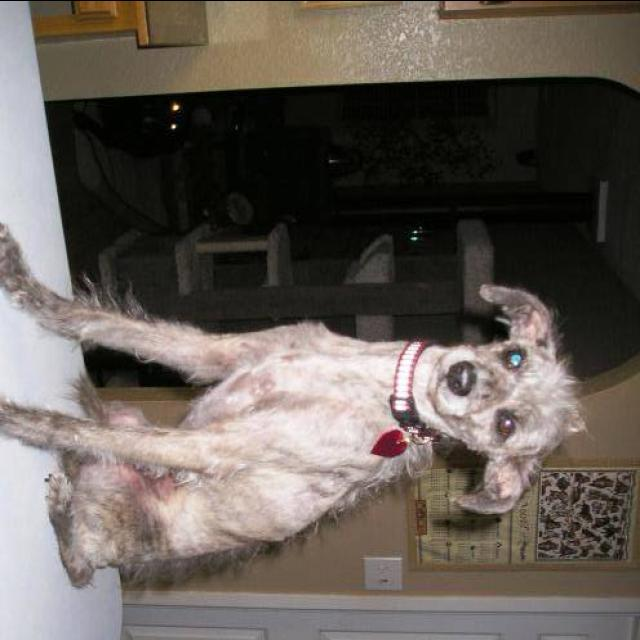dog: (0, 187, 580, 597)
